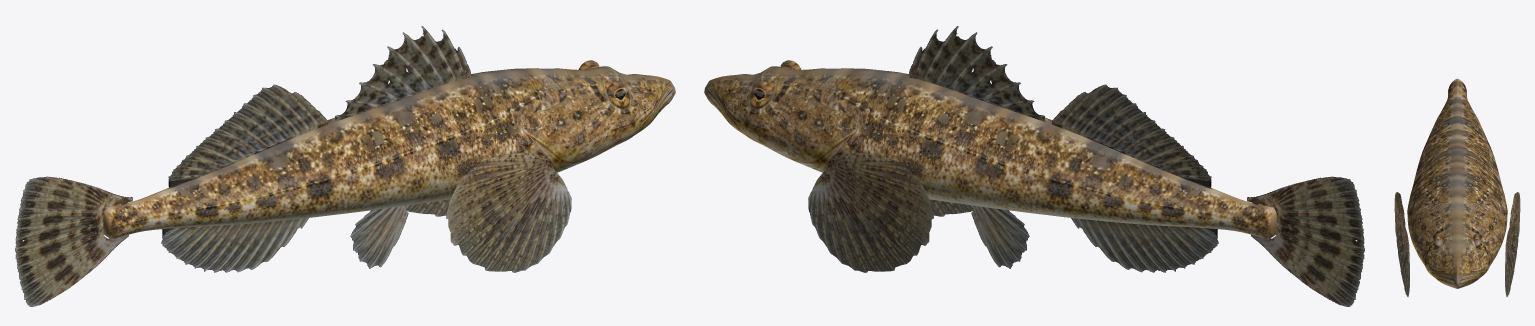
File: magochi.glb
3 renders of one model, left to right at view 1: azimuth 30°, elevation 25°; view 2: azimuth 150°, elevation 25°; view 3: azimuth 270°, elevation 25°, orthographic. The views are drawn at different scales.
Bounding box in the file's own units: 1 × 0.3385 × 0.24.
1 material, 1 textured.
